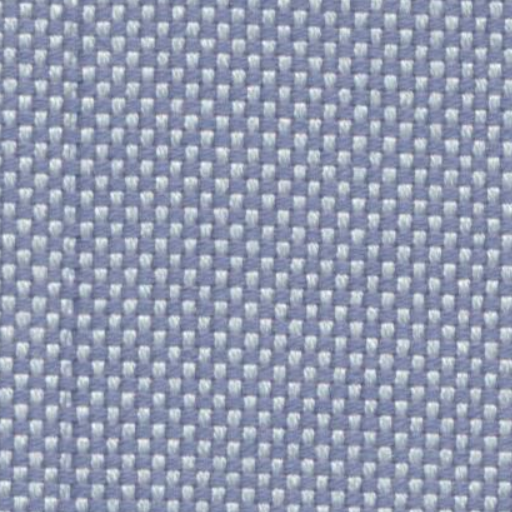TuoSha: (50, 12, 114, 498)
